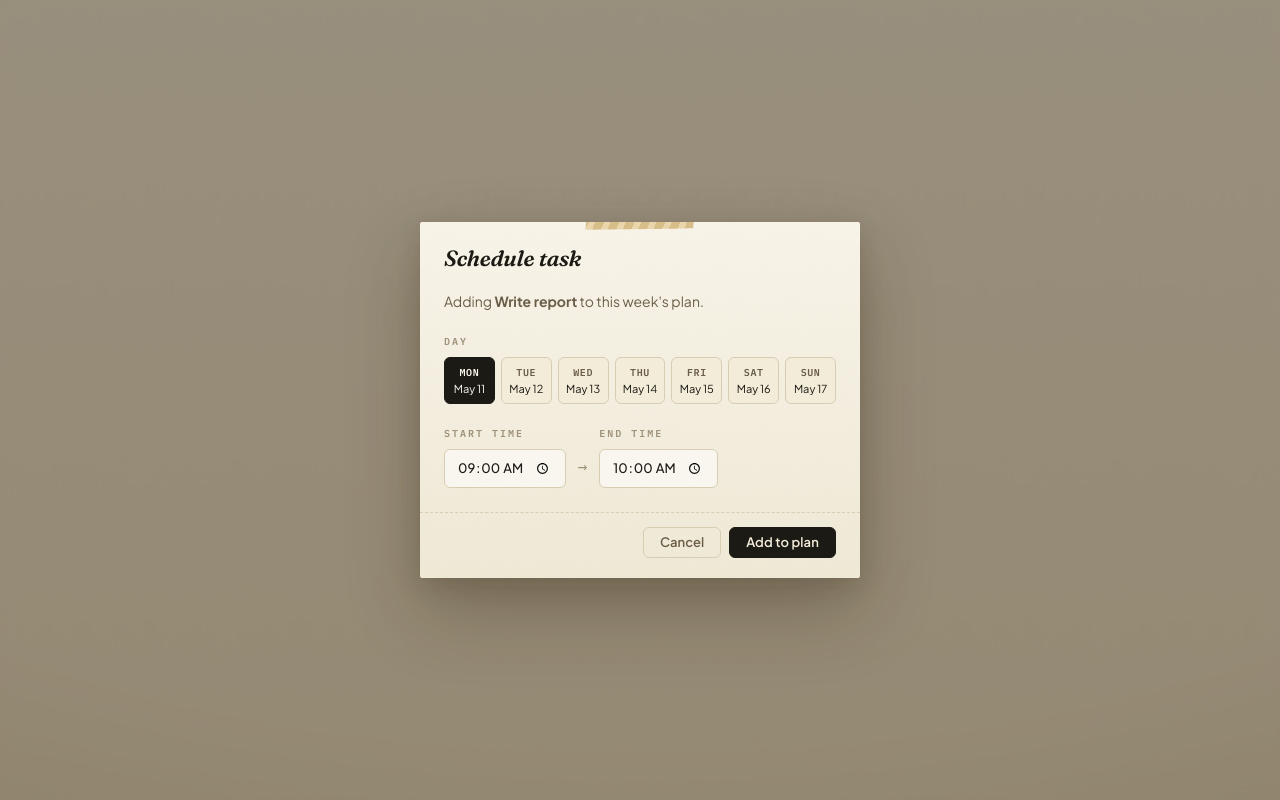
Test case: ScheduleTaskModal › defaults to a 30-minute block when no estimate is set
This screenshot has width=1280, height=800.
Replace the text in the time field below "Start time" with "14:00" at point(505, 468), box [444,449,566,488]
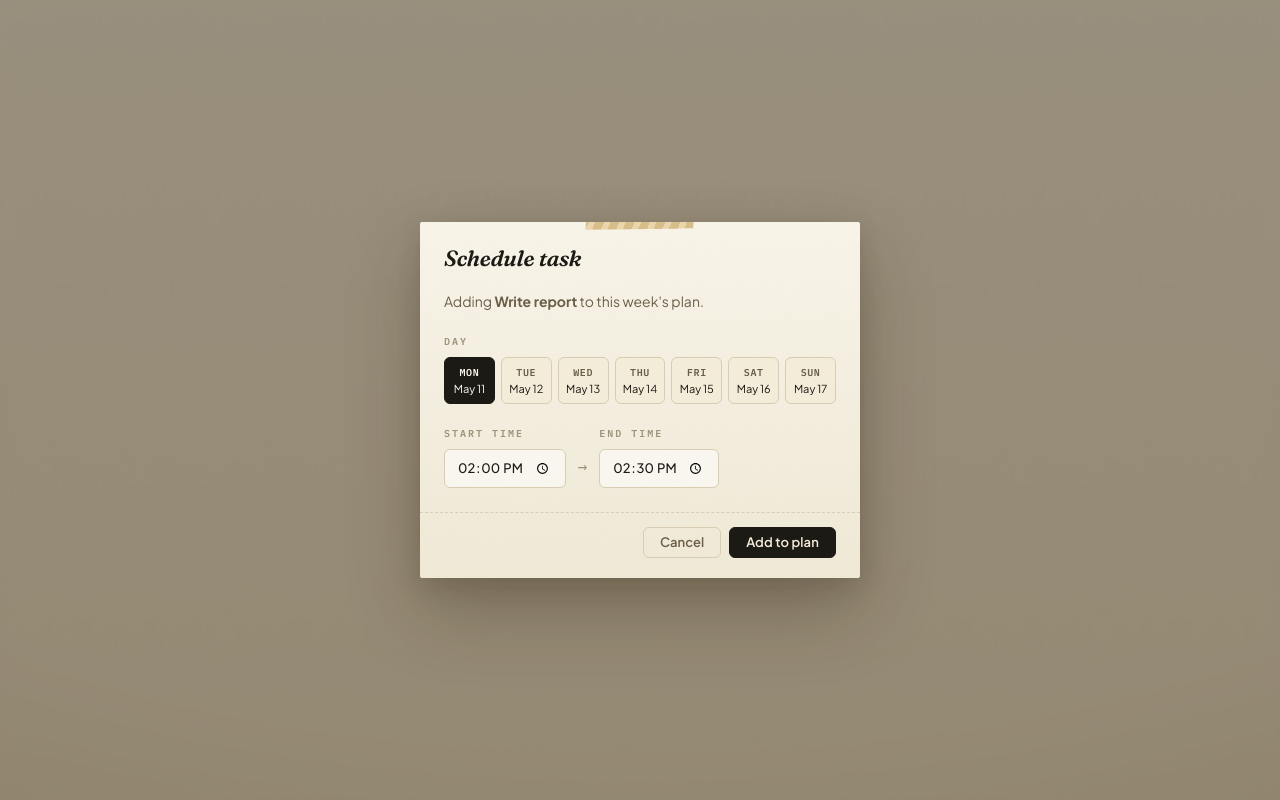
Expected: the time field below "End time" holds "14:30", [599,449,719,488]
